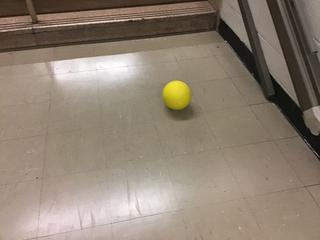power_cell: (159, 81, 195, 111)
